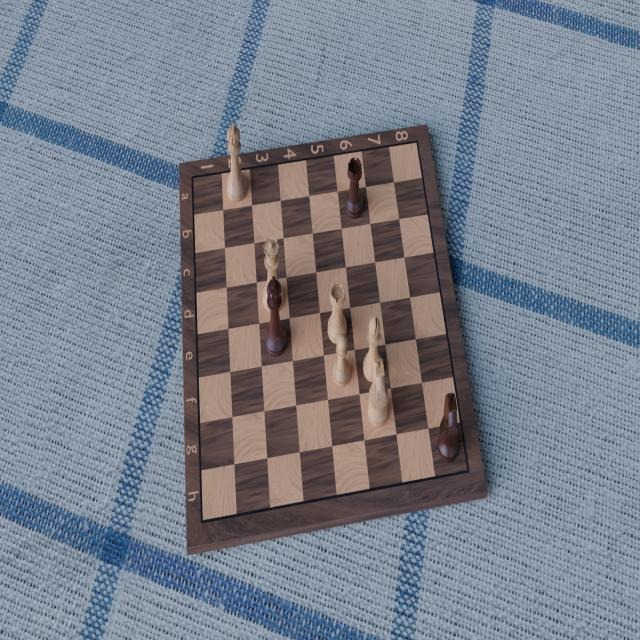black-king: (263, 274, 288, 358)
black-knight: (436, 389, 460, 462)
black-rook: (344, 156, 364, 219)
white-bishop: (362, 313, 384, 382)
white-king: (224, 121, 248, 202)
white-knight: (366, 357, 389, 429)
white-pawn: (332, 333, 352, 388)
white-queen: (261, 235, 284, 311)
white-rook: (326, 281, 348, 346)
